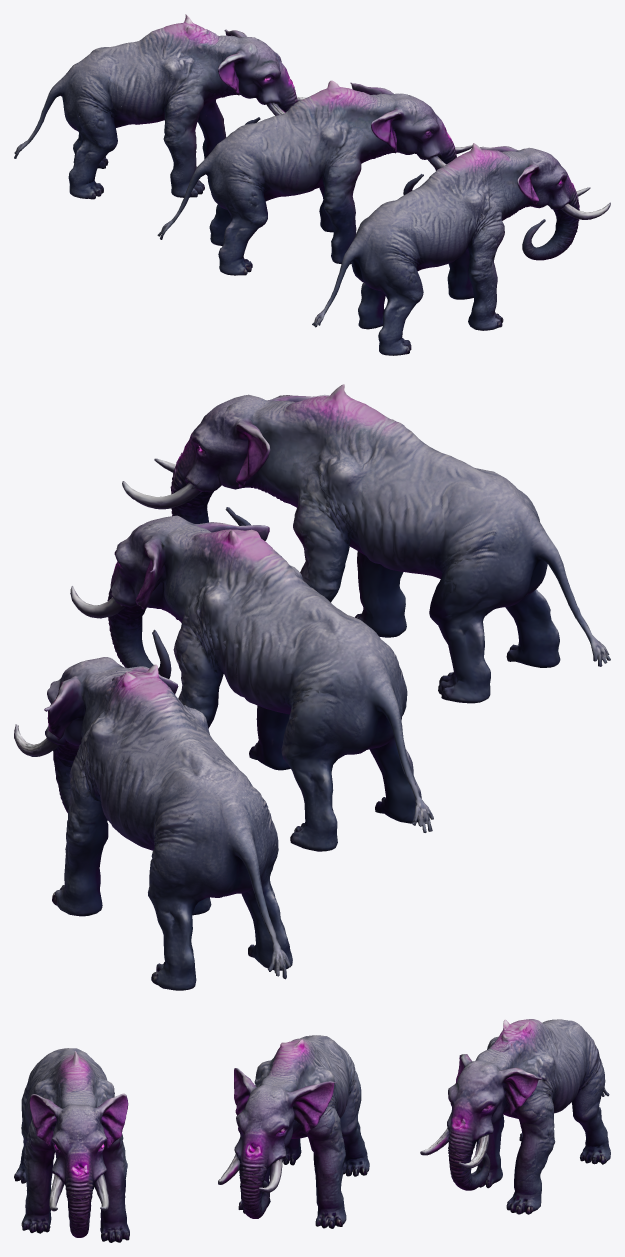
File: elephant.glb
3 views of the same model, one above another, from view 1: azimuth 30°, elevation 25°; view 2: azimuth 150°, elevation 25°; view 3: azimuth 270°, elevation 25° (orthographic). The views are drawn at different scales.
Parts seen in each view (by area): view 1: tripo_node_996b04e8-4ef3-4f57-8b3e-b6337ea258d6; view 2: tripo_node_996b04e8-4ef3-4f57-8b3e-b6337ea258d6; view 3: tripo_node_996b04e8-4ef3-4f57-8b3e-b6337ea258d6.
Boxes of the visible parts, bbox=[...] form: tripo_node_996b04e8-4ef3-4f57-8b3e-b6337ea258d6: bbox=[14, 14, 610, 355]; tripo_node_996b04e8-4ef3-4f57-8b3e-b6337ea258d6: bbox=[14, 384, 610, 990]; tripo_node_996b04e8-4ef3-4f57-8b3e-b6337ea258d6: bbox=[14, 1019, 610, 1242].
Size of the model in its own units: 0.6864 by 0.325 by 0.9785.
1 material, 1 textured.
